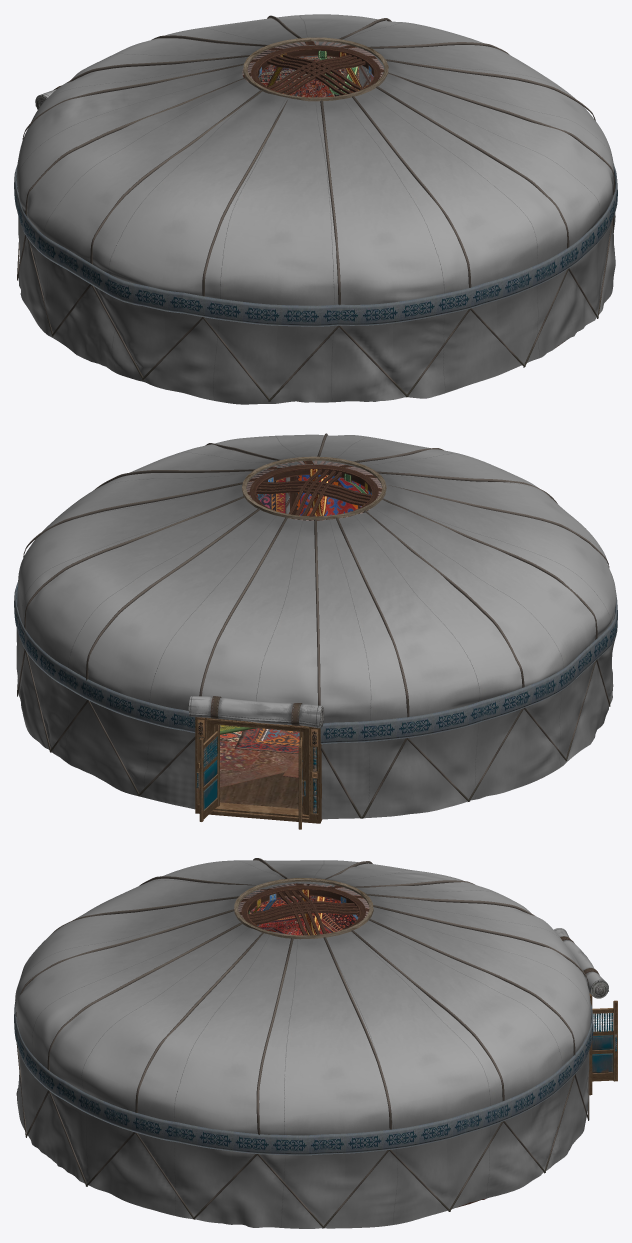
File: yurt_low_quality_texture.glb
3 views of the same model, one above another, from view 1: azimuth 30°, elevation 25°; view 2: azimuth 150°, elevation 25°; view 3: azimuth 270°, elevation 25° (orthographic). The views are drawn at different scales.
Bounding box in the file's own units: 7.08 × 2.77 × 7.35.
Materials: 12 (12 with a texture image).
